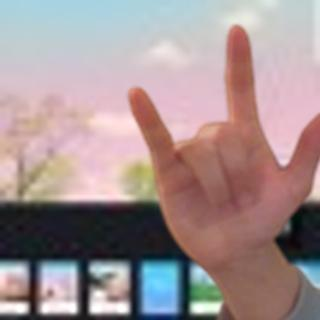ILY: (118, 22, 320, 275)
